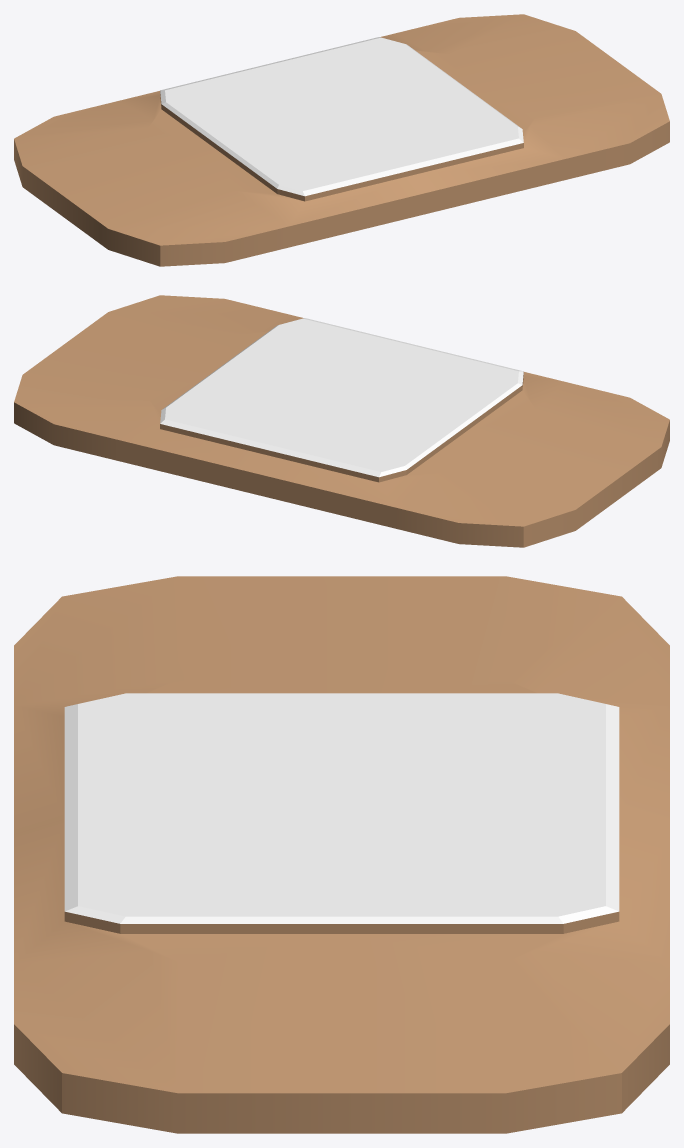
The model's file is T1_BANDAID.fbx.
The picture shows the model from 3 angles, top to bottom: view 1: azimuth 30°, elevation 25°; view 2: azimuth 150°, elevation 25°; view 3: azimuth 270°, elevation 25°; orthographic projection. The views are drawn at different scales.
Parts seen in each view (by area): view 1: Band_Aid; view 2: Band_Aid; view 3: Band_Aid.
Boxes of the visible parts, x1=… form: Band_Aid: x1=14, y1=14, x2=669, y2=266; Band_Aid: x1=14, y1=295, x2=669, y2=547; Band_Aid: x1=14, y1=576, x2=669, y2=1133.
Size of the model in its own units: 0.6637 by 0.3559 by 0.042.
